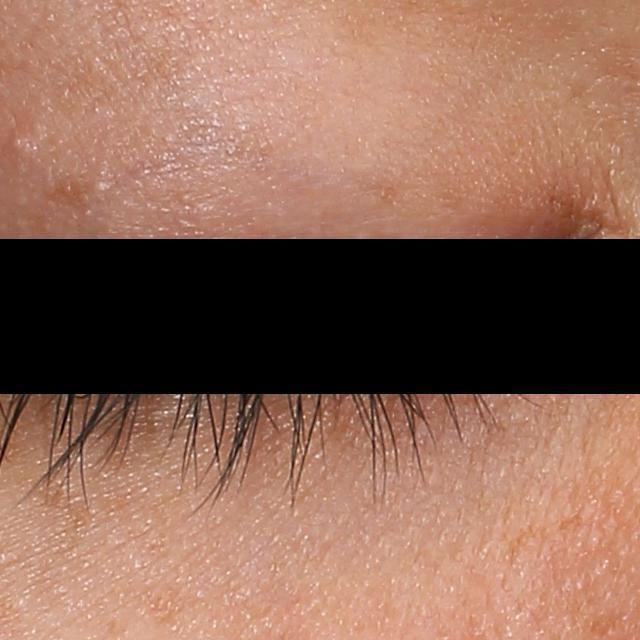melasma: (501, 510, 592, 574), (138, 577, 193, 629), (47, 177, 94, 211)
